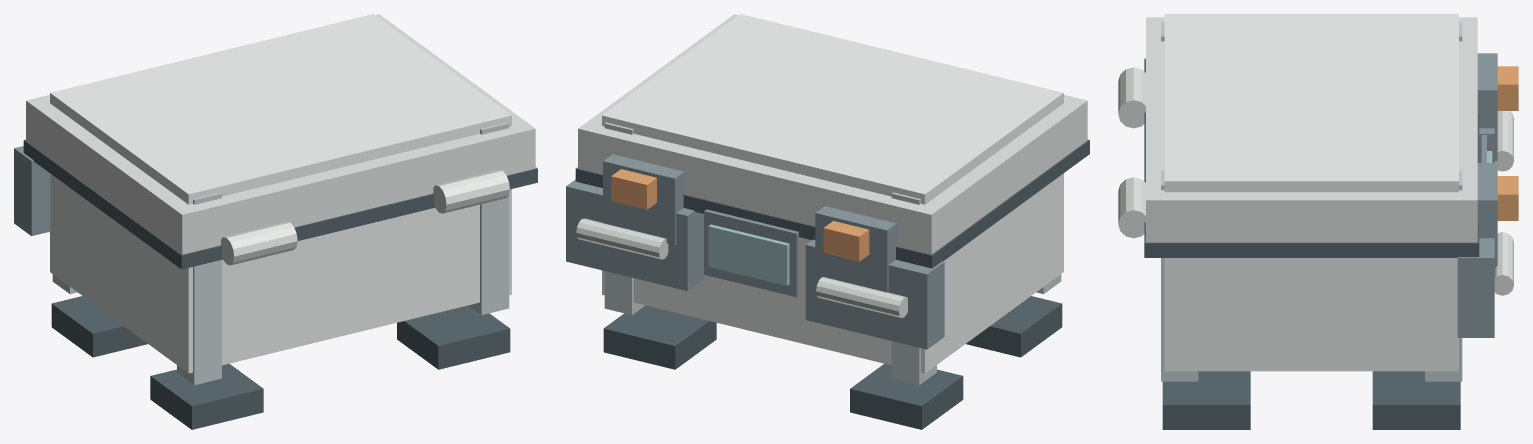
The model's file is cargo_crate_small.glb.
The picture shows the model from 3 angles, left to right: view 1: azimuth 30°, elevation 25°; view 2: azimuth 150°, elevation 25°; view 3: azimuth 270°, elevation 25°; orthographic projection. The views are drawn at different scales.
Parts seen in each view (by area): view 1: case_shell_white_ceramic, upper_lid_warm_panel, stacking_feet_black_rubber, vertical_frame_alloy, lid_gasket_black_rubber, rear_hinge_satin_steel, liftable_handles_dark_alloy; view 2: case_shell_white_ceramic, upper_lid_warm_panel, liftable_handles_dark_alloy, stacking_feet_black_rubber, lid_latches_dark_alloy, lid_gasket_black_rubber, liftable_handles_satin_steel, blank_identification_insert_teal_soft, vertical_frame_alloy, lid_latches_orange, blank_identification_holder_dark_alloy; view 3: case_shell_white_ceramic, upper_lid_warm_panel, stacking_feet_black_rubber, lid_gasket_black_rubber, liftable_handles_dark_alloy, lid_latches_dark_alloy, rear_hinge_satin_steel, liftable_handles_satin_steel, lid_latches_orange, vertical_frame_alloy.
Part boxes in pixels (left/top/right/bottom): case_shell_white_ceramic: left=50, top=14, right=511, bottom=373; upper_lid_warm_panel: left=26, top=14, right=535, bottom=254; stacking_feet_black_rubber: left=51, top=296, right=510, bottom=429; vertical_frame_alloy: left=52, top=122, right=509, bottom=385; lid_gasket_black_rubber: left=23, top=139, right=537, bottom=269; rear_hinge_satin_steel: left=221, top=170, right=509, bottom=265; liftable_handles_dark_alloy: left=14, top=146, right=50, bottom=236; case_shell_white_ceramic: left=602, top=14, right=1063, bottom=373; upper_lid_warm_panel: left=578, top=14, right=1087, bottom=254; liftable_handles_dark_alloy: left=566, top=179, right=944, bottom=349; stacking_feet_black_rubber: left=603, top=296, right=1062, bottom=429; lid_latches_dark_alloy: left=603, top=154, right=896, bottom=292; lid_gasket_black_rubber: left=575, top=139, right=1089, bottom=268; liftable_handles_satin_steel: left=576, top=218, right=907, bottom=317; blank_identification_insert_teal_soft: left=708, top=224, right=789, bottom=285; vertical_frame_alloy: left=604, top=122, right=1061, bottom=385; lid_latches_orange: left=611, top=169, right=869, bottom=261; blank_identification_holder_dark_alloy: left=704, top=209, right=798, bottom=297; case_shell_white_ceramic: left=1164, top=14, right=1458, bottom=371; upper_lid_warm_panel: left=1146, top=17, right=1477, bottom=242; stacking_feet_black_rubber: left=1162, top=371, right=1460, bottom=429; lid_gasket_black_rubber: left=1144, top=58, right=1479, bottom=257; liftable_handles_dark_alloy: left=1457, top=128, right=1494, bottom=337; lid_latches_dark_alloy: left=1477, top=53, right=1497, bottom=267; rear_hinge_satin_steel: left=1118, top=67, right=1145, bottom=238; liftable_handles_satin_steel: left=1494, top=111, right=1513, bottom=295; lid_latches_orange: left=1497, top=66, right=1518, bottom=220; vertical_frame_alloy: left=1161, top=22, right=1462, bottom=381.
Bounding box in the file's own units: 0.654 × 0.4075 × 0.592.
